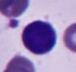D: (20, 19, 57, 57)
